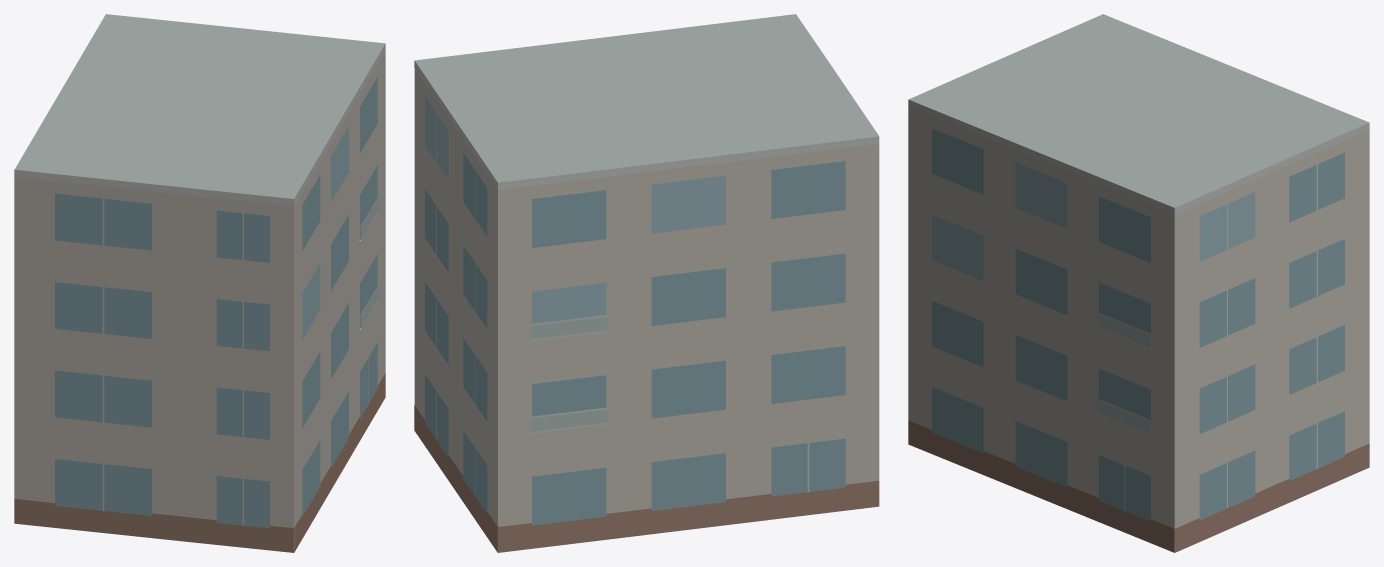
File: residential-8e9ea7c5-0bbc-4bd1-a8b5-dd14eba13582.glb
3 renders of one model, left to right at view 1: azimuth 30°, elevation 25°; view 2: azimuth 150°, elevation 25°; view 3: azimuth 270°, elevation 25°, orthographic. The views are drawn at different scales.
Parts seen in each view (by area): view 1: residential-8e9ea7c5-0bbc-4bd1-a8b5-dd14eba13582.tmp; view 2: residential-8e9ea7c5-0bbc-4bd1-a8b5-dd14eba13582.tmp; view 3: residential-8e9ea7c5-0bbc-4bd1-a8b5-dd14eba13582.tmp.
Boxes of the visible parts, x1,y1,x2,y2 form: residential-8e9ea7c5-0bbc-4bd1-a8b5-dd14eba13582.tmp: (14, 14, 385, 552); residential-8e9ea7c5-0bbc-4bd1-a8b5-dd14eba13582.tmp: (414, 14, 879, 552); residential-8e9ea7c5-0bbc-4bd1-a8b5-dd14eba13582.tmp: (908, 14, 1369, 552).
Size of the model in its own units: 14.72 by 12.2 by 14.79.
